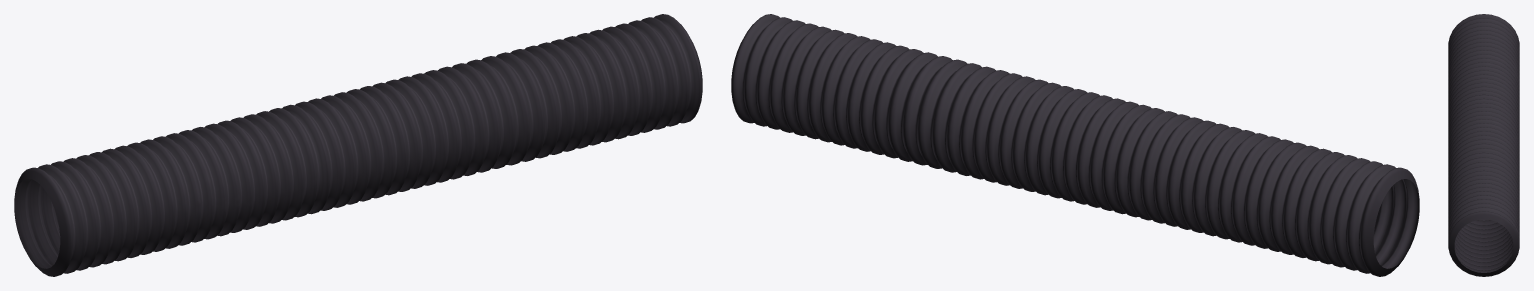
The model's file is SM_VentilatorPipeBigStyle02.fbx.
3 views of the same model, side by side, from view 1: azimuth 30°, elevation 25°; view 2: azimuth 150°, elevation 25°; view 3: azimuth 270°, elevation 25° (orthographic). The views are drawn at different scales.
Visible parts, largest first — view 1: SM_VentilatorPipeBigStyle02_LOD0; view 2: SM_VentilatorPipeBigStyle02_LOD0; view 3: SM_VentilatorPipeBigStyle02_LOD0.
Part boxes in pixels (x1,y1,x2,y2): SM_VentilatorPipeBigStyle02_LOD0: (14,14,702,276); SM_VentilatorPipeBigStyle02_LOD0: (731,14,1419,276); SM_VentilatorPipeBigStyle02_LOD0: (1448,14,1519,276).
Size of the model in its own units: 300 by 44.88 by 45.12.
1 material, 1 textured.
